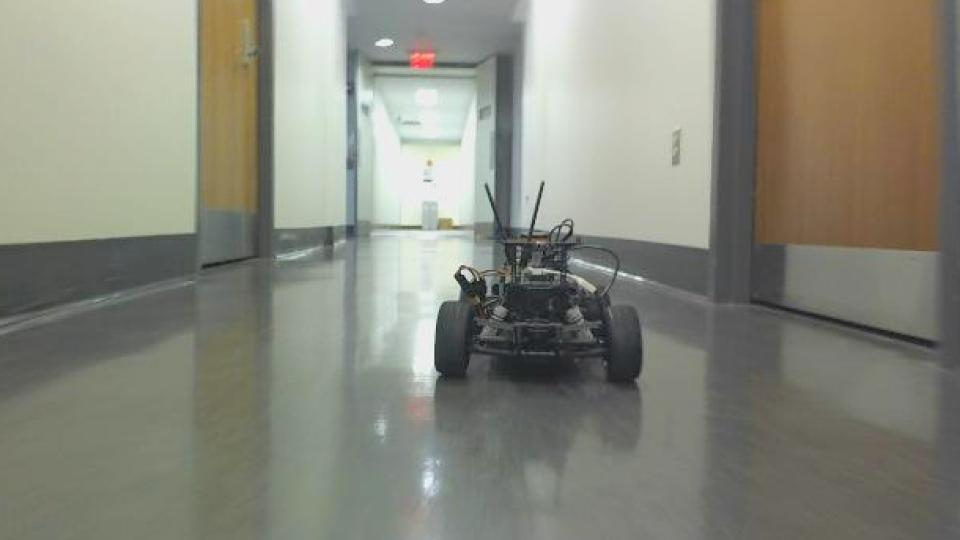car: (430, 179, 645, 386)
